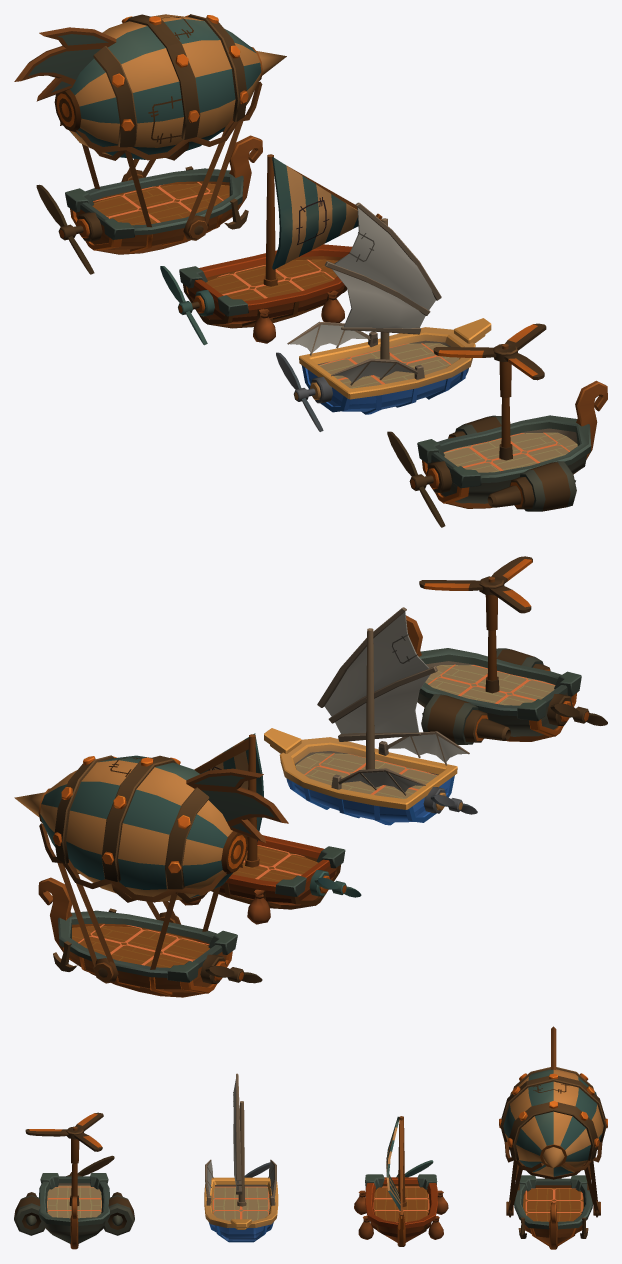
File: boats.fbx
3 views of the same model, one above another, from view 1: azimuth 30°, elevation 25°; view 2: azimuth 150°, elevation 25°; view 3: azimuth 270°, elevation 25° (orthographic). The views are drawn at different scales.
Parts seen in each view (by area): view 1: ships.4.Top, ships.1, ships.4, ships.2, ships.3, ships.2.Top, ships.3.Top, ships.1.Top; view 2: ships.4.Top, ships.4, ships.1, ships.2, ships.2.Top, ships.3, ships.1.Top, ships.3.Top, Plane.4; view 3: ships.4.Top, ships.1, ships.4, ships.3, ships.2, ships.1.Top, ships.2.Top, ships.3.Top, Plane.2.
Part boxes in pixels (x1,y1,x2,y2): ships.4.Top: (14,14,262,227); ships.1: (387,380,607,527); ships.4: (36,15,286,274); ships.2: (276,318,491,431); ships.3: (160,213,382,345); ships.2.Top: (324,202,441,359); ships.3.Top: (263,154,381,286); ships.1.Top: (433,323,546,460); ships.4.Top: (38,755,288,969); ships.4: (14,756,262,997); ships.1: (406,615,607,744); ships.2: (264,728,477,825); ships.2.Top: (317,607,437,769); ships.3: (179,835,361,924); ships.1.Top: (419,556,532,693); ships.3.Top: (194,733,263,867); Plane.4: (78,924,209,965); ships.4.Top: (499,1026,606,1211); ships.1: (14,1155,134,1249); ships.4: (506,1084,607,1249); ships.3: (354,1160,448,1246); ships.2: (204,1159,278,1242); ships.1.Top: (25,1112,103,1205); ships.2.Top: (233,1073,246,1206); ships.3.Top: (386,1116,406,1219); Plane.2: (212,1186,269,1219).
Size of the model in its own units: 59.4 by 50.94 by 162.
